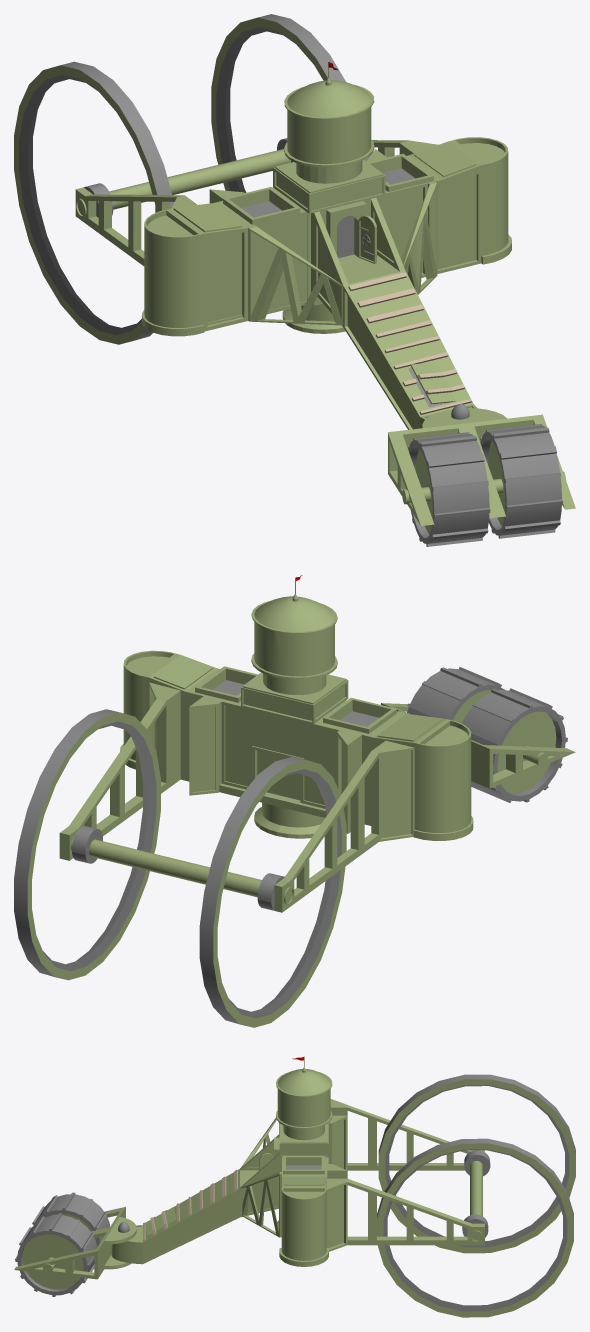
Rendered from tsar_tank.glb.
3 views of the same model, one above another, from view 1: azimuth 30°, elevation 25°; view 2: azimuth 150°, elevation 25°; view 3: azimuth 270°, elevation 25° (orthographic). The views are drawn at different scales.
Parts seen in each view (by area): view 1: Material2, Material2.002, Material3; view 2: Material2, Material2.002; view 3: Material2, Material2.002, Material3.
Boxes of the visible parts, x1,y1,x2,y2 form: Material2: (14, 17, 575, 534); Material2.002: (19, 14, 562, 546); Material3: (348, 272, 471, 414); Material2: (27, 578, 575, 1027); Material2.002: (14, 667, 567, 1027); Material2: (14, 1056, 575, 1317); Material2.002: (15, 1074, 575, 1311); Material3: (143, 1170, 237, 1241).
Size of the model in its own units: 130 by 116 by 257.
